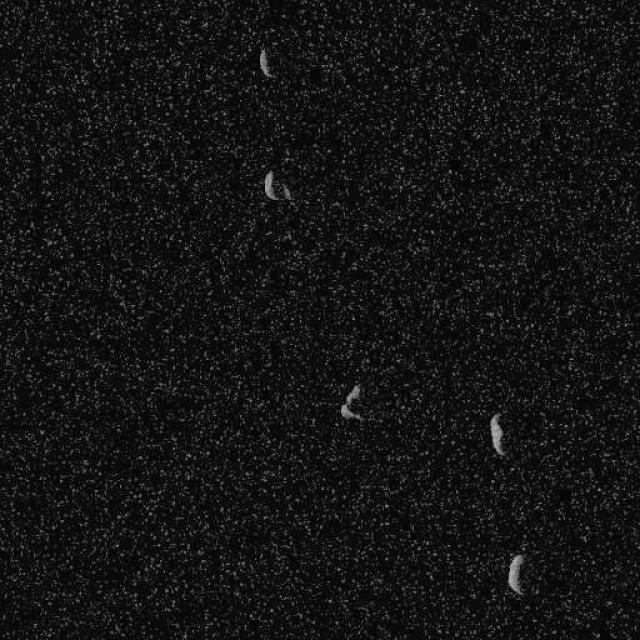D2: (338, 382, 364, 422), (262, 168, 292, 202), (506, 553, 525, 595), (489, 412, 506, 456), (258, 46, 272, 78)
